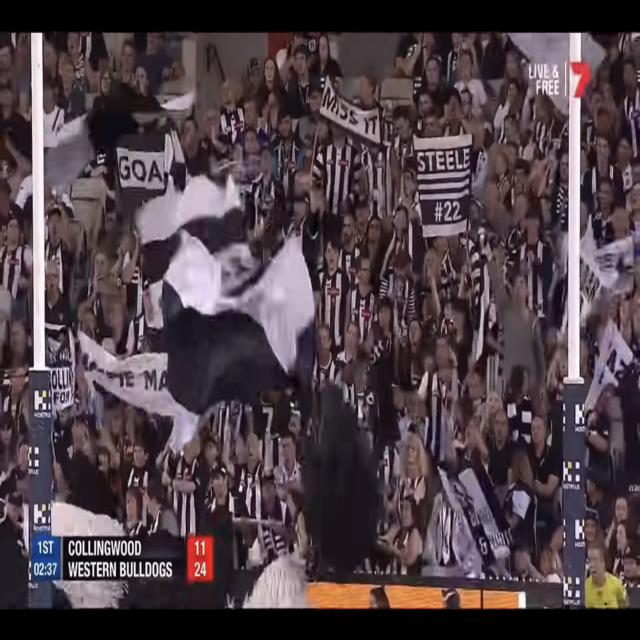crowd: (0, 22, 640, 611)
